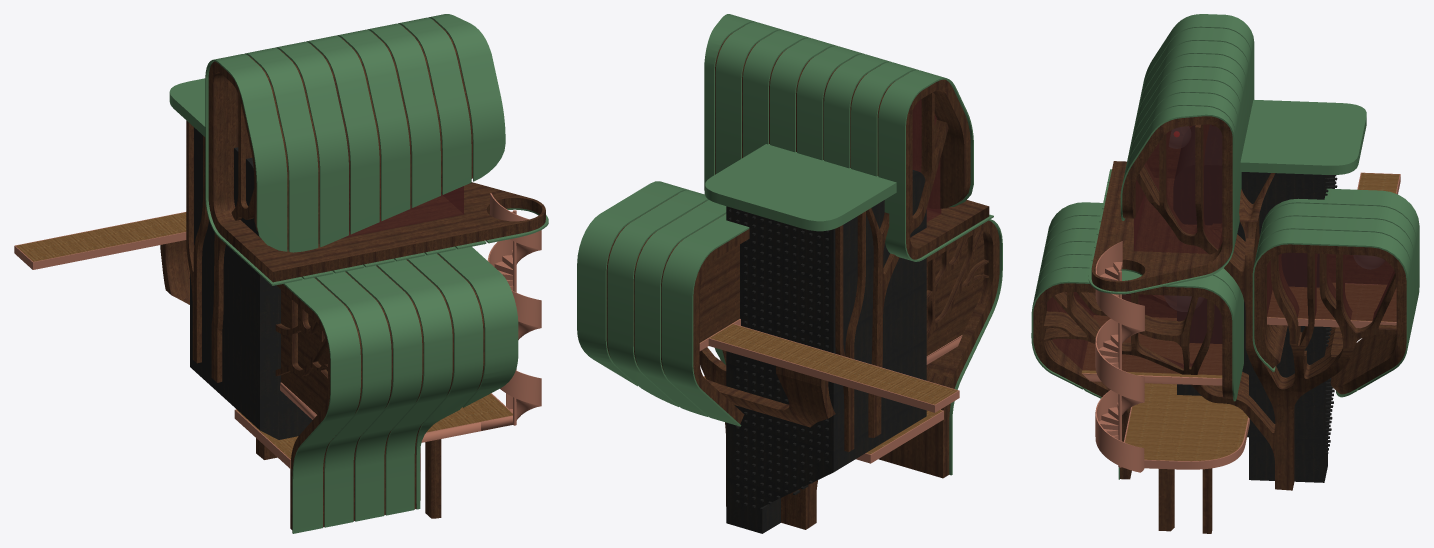
File: redwoods.glb
3 renders of one model, left to right at view 1: azimuth 30°, elevation 25°; view 2: azimuth 150°, elevation 25°; view 3: azimuth 270°, elevation 25°, orthographic. The views are drawn at different scales.
Visible parts, largest first — view 1: Group024, Line037, Line038, SpiralStair001, REDWOODS, Line041, Line042; view 2: Group024, Line037, Line038, REDWOODS, Line041, Line039, Line042; view 3: Group024, Line038, Line037, Line042, SpiralStair001, Line036, Line040, REDWOODS, Line039, Line041.
Part boxes in pixels (x1,y1,x2,y2): Group024: [16, 14, 548, 533]; Line037: [190, 127, 312, 439]; Line038: [160, 95, 441, 518]; SpiralStair001: [487, 193, 541, 425]; REDWOODS: [14, 212, 512, 468]; Line041: [281, 290, 327, 414]; Line042: [343, 186, 463, 238]; Group024: [577, 14, 1002, 510]; Line037: [726, 170, 927, 533]; Line038: [699, 92, 988, 529]; REDWOODS: [699, 319, 962, 463]; Line041: [926, 233, 984, 355]; Line039: [699, 244, 739, 342]; Line042: [912, 99, 941, 221]; Group024: [1031, 14, 1419, 479]; Line038: [1043, 124, 1396, 533]; Line037: [1150, 125, 1334, 482]; Line042: [1134, 124, 1222, 253]; SpiralStair001: [1095, 241, 1144, 472]; Line036: [1267, 252, 1396, 321]; Line040: [1047, 292, 1222, 375]; REDWOODS: [1082, 172, 1400, 469]; Line039: [1329, 254, 1393, 284]; Line041: [1074, 292, 1176, 317].
Bounding box in the file's own units: 13.45 × 16.11 × 13.04.
9 materials, 4 textured.
